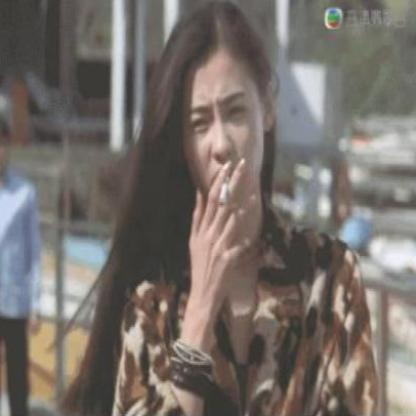cigarette: (219, 172, 231, 208)
person: (110, 18, 354, 415)
